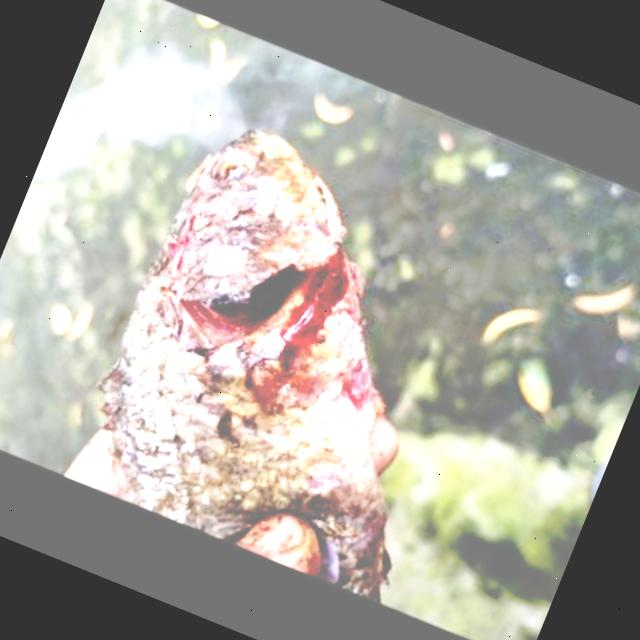Flavobacterium -Bacterial Gill Disease-: (102, 123, 387, 596)
